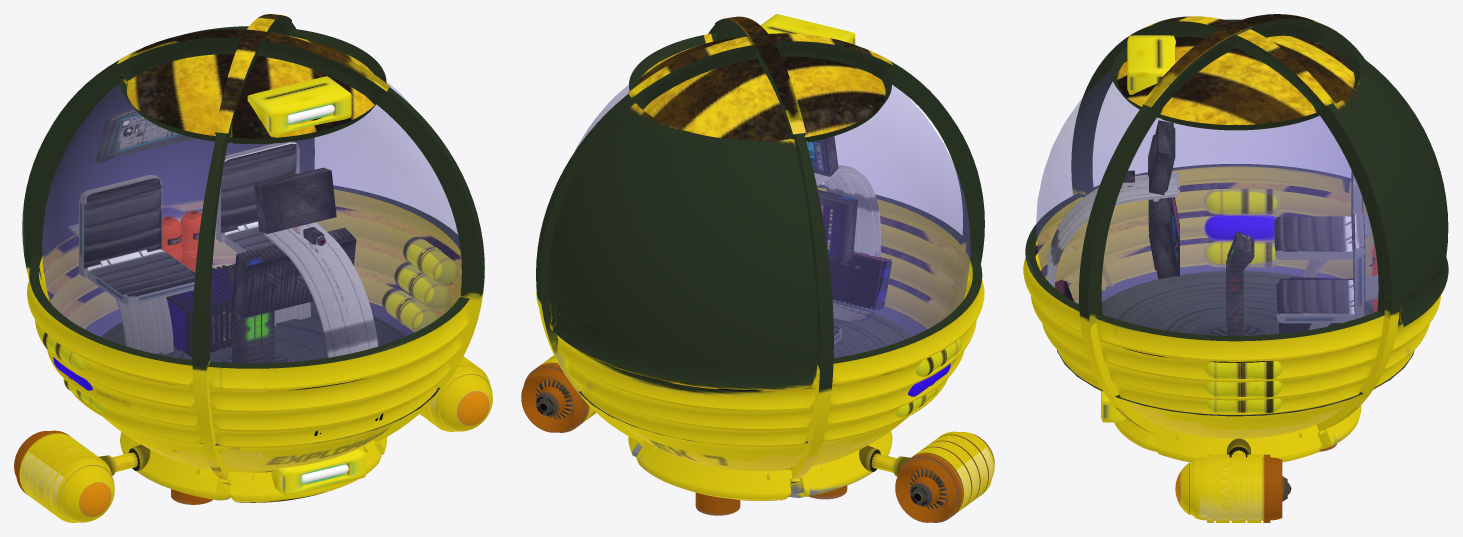
The model's file is submersible.glb.
3 views of the same model, side by side, from view 1: azimuth 30°, elevation 25°; view 2: azimuth 150°, elevation 25°; view 3: azimuth 270°, elevation 25° (orthographic). The views are drawn at different scales.
Parts seen in each view (by area): view 1: outershell, Sphere_1, seat, vdu_1, Cube_1_3, Capsule, seat2_1, Disc, tanks_3, Cube_1_2, Capsule_2, battery_large (+6 smaller); view 2: outershell, Sphere_1, Capsule, Capsule_2, Disc, vdu_1, battery, Cube_1_3, Cube_1_2, under_lights_1, Cylinder, Capsule_1; view 3: outershell, Sphere_1, Disc, Capsule_2, seat2_1, seat, vdu_1, Capsule_3_2, tanks_3, Cube_1_3, Cube_1_2, Capsule_1 (+2 smaller).
Part boxes in pixels (x1=…): outershell: x1=22, y1=14, x2=484, y2=502; Sphere_1: x1=42, y1=82, x2=461, y2=363; seat: x1=68, y1=175, x2=195, y2=353; vdu_1: x1=231, y1=167, x2=356, y2=318; Cube_1_3: x1=262, y1=222, x2=378, y2=357; Capsule: x1=14, y1=430, x2=114, y2=522; seat2_1: x1=216, y1=141, x2=310, y2=325; Disc: x1=85, y1=301, x2=439, y2=446; tanks_3: x1=381, y1=236, x2=455, y2=332; Cube_1_2: x1=247, y1=76, x2=351, y2=136; Capsule_2: x1=420, y1=356, x2=492, y2=431; battery_large: x1=166, y1=265, x2=231, y2=357; outershell: x1=536, y1=16, x2=984, y2=500; Sphere_1: x1=575, y1=85, x2=970, y2=357; Capsule: x1=895, y1=431, x2=994, y2=522; Capsule_2: x1=521, y1=355, x2=596, y2=432; Disc: x1=578, y1=300, x2=926, y2=444; vdu_1: x1=806, y1=136, x2=857, y2=263; battery: x1=829, y1=251, x2=891, y2=311; Cube_1_3: x1=814, y1=164, x2=880, y2=256; Cube_1_2: x1=760, y1=14, x2=855, y2=44; under_lights_1: x1=695, y1=485, x2=847, y2=515; Cylinder: x1=859, y1=445, x2=910, y2=476; Capsule_1: x1=916, y1=338, x2=961, y2=376; outershell: x1=1023, y1=14, x2=1448, y2=462; Sphere_1: x1=1036, y1=71, x2=1378, y2=335; Disc: x1=1057, y1=265, x2=1414, y2=416; Capsule_2: x1=1175, y1=454, x2=1291, y2=522; seat2_1: x1=1276, y1=213, x2=1378, y2=329; seat: x1=1274, y1=170, x2=1372, y2=277; vdu_1: x1=1148, y1=120, x2=1179, y2=279; Capsule_3_2: x1=1204, y1=215, x2=1275, y2=335; tanks_3: x1=1204, y1=361, x2=1282, y2=413; Cube_1_3: x1=1047, y1=171, x2=1179, y2=287; Cube_1_2: x1=1127, y1=35, x2=1175, y2=94; Capsule_1: x1=1204, y1=188, x2=1281, y2=214.
Size of the model in its own units: 338 by 325 by 300.
Materials: 2 (2 with a texture image).
